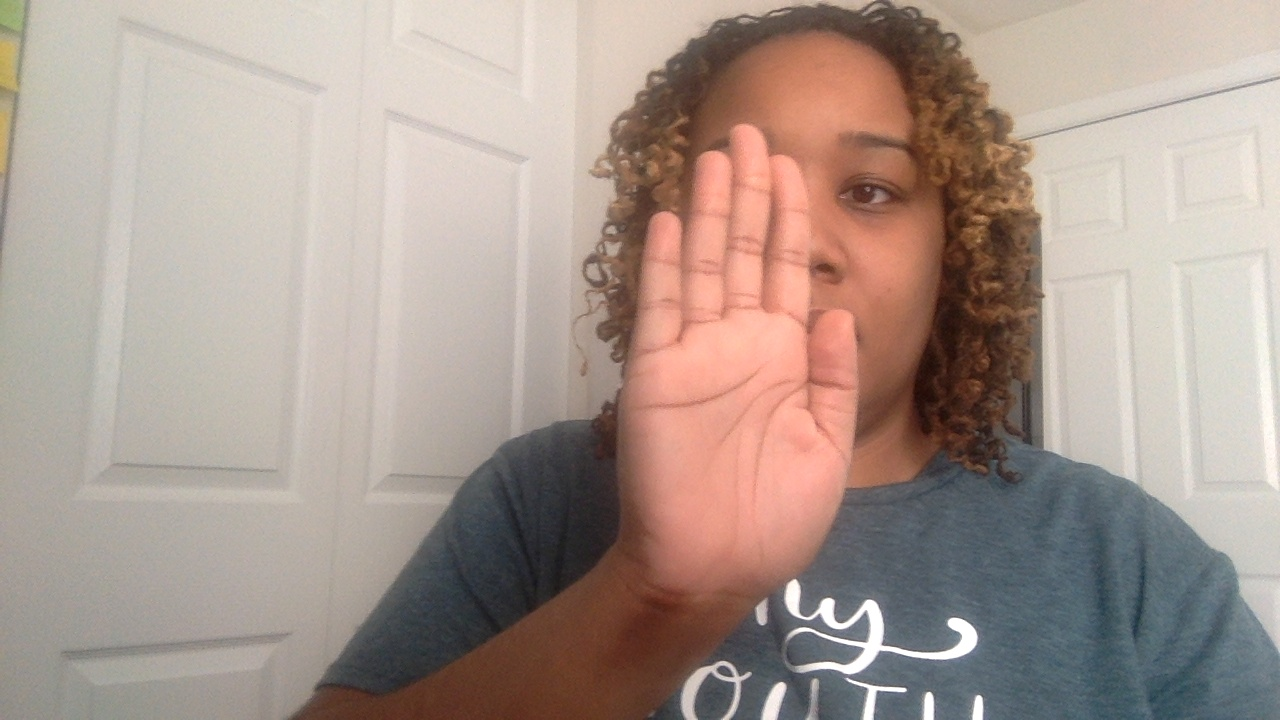hello: (580, 123, 856, 610)
